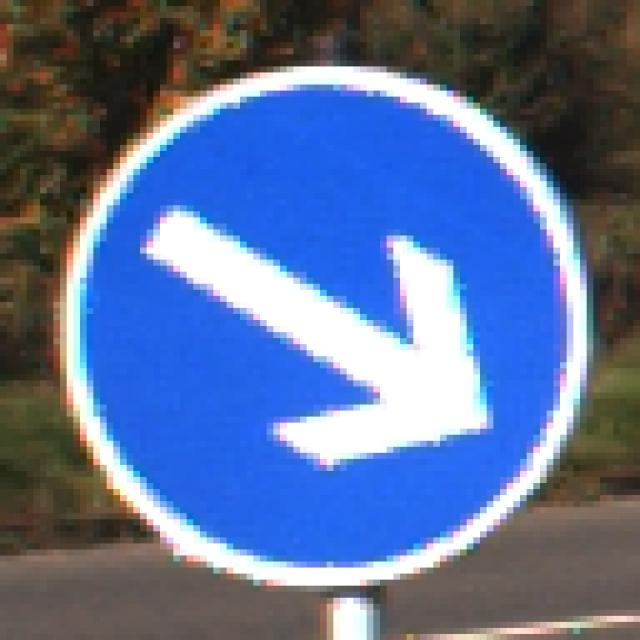compulsary keep right: (46, 54, 605, 602)
